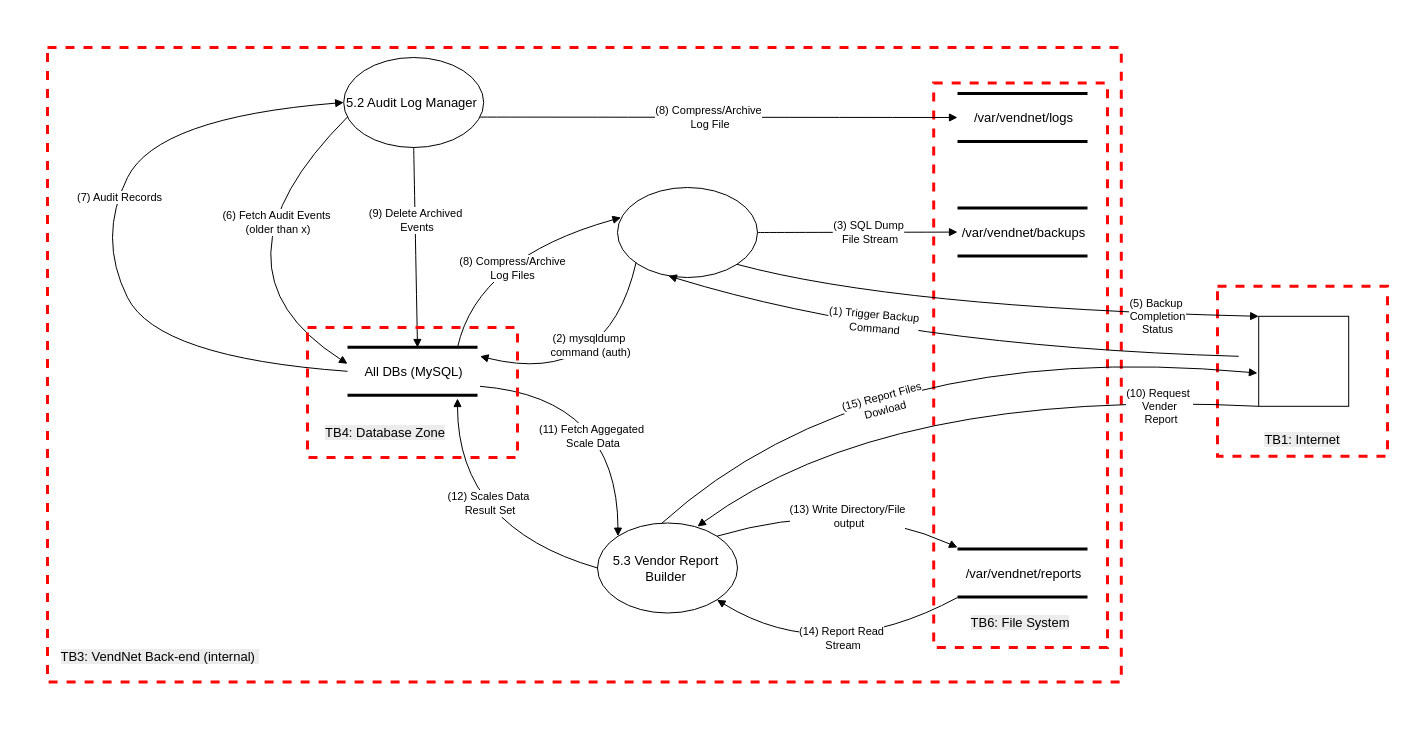
Some shapes in this 1424 by 744 pixel diagram are drawn without their labels. Here are the shapes that lost their labels. From the top down, the centre of each, then its label:
At (x=687, y=232): "5.1 DB Backup Generator".
At (x=1303, y=360): "Administrator".
